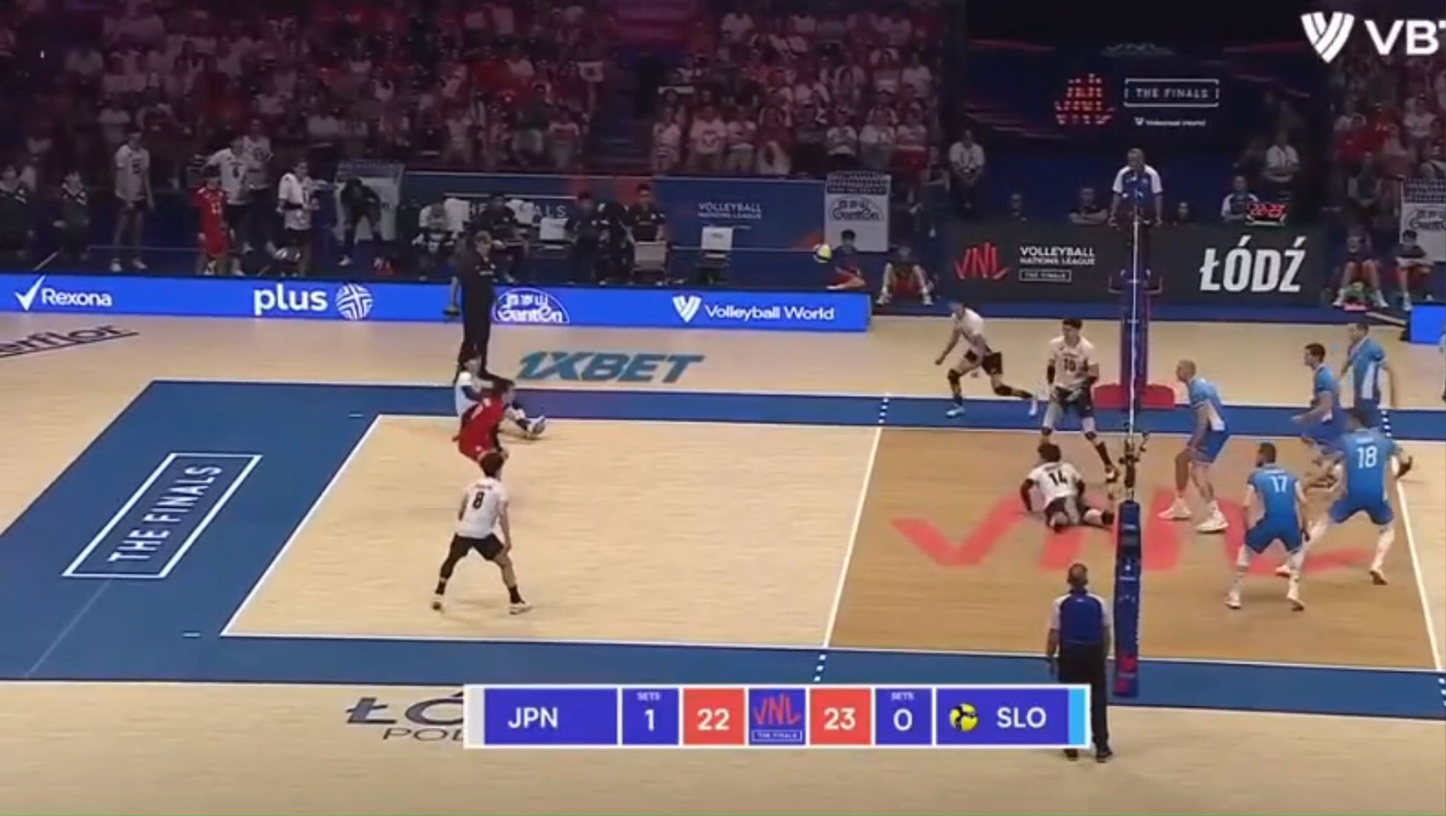ball: (813, 243, 833, 264)
player: (1311, 407, 1410, 584), (1226, 442, 1308, 610), (1159, 360, 1228, 533), (1296, 343, 1347, 475), (1342, 321, 1396, 429)
player 1: (431, 451, 529, 613), (1041, 319, 1119, 482), (935, 302, 1037, 416), (1021, 441, 1114, 531), (454, 379, 512, 460), (453, 356, 491, 419), (507, 406, 536, 431)
referee: (1045, 563, 1112, 761), (1107, 148, 1163, 284), (451, 230, 496, 374)
